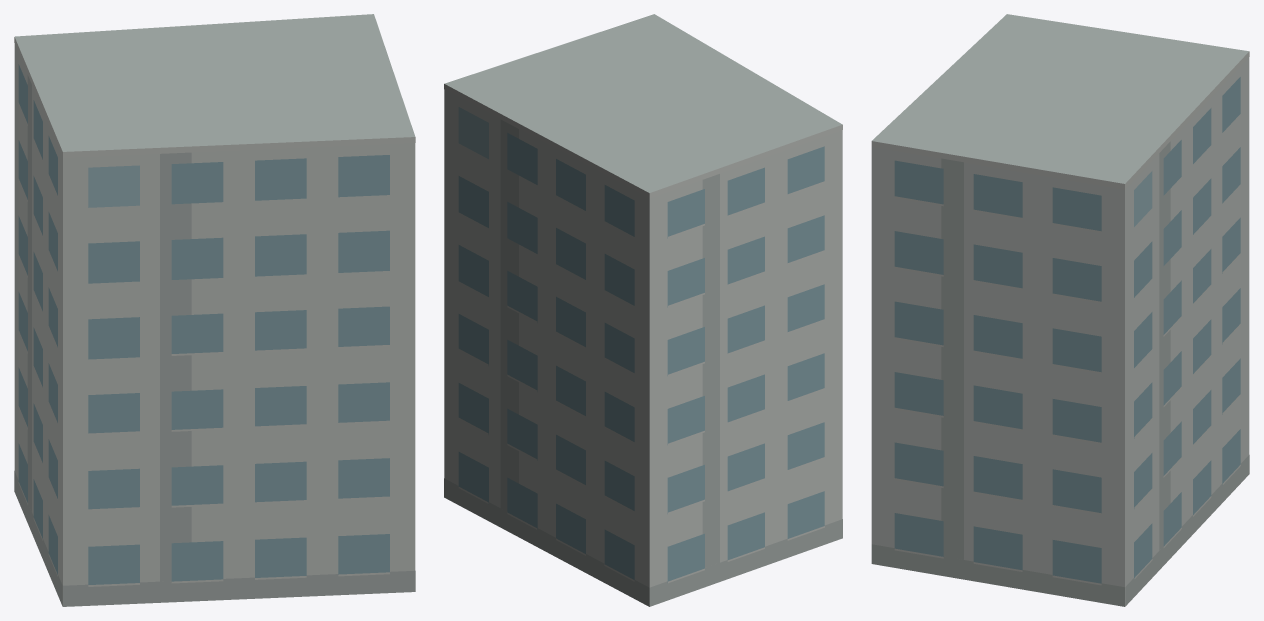
Rendered from survey-upis-32524504.glb.
3 renders of one model, left to right at view 1: azimuth 30°, elevation 25°; view 2: azimuth 150°, elevation 25°; view 3: azimuth 270°, elevation 25°, orthographic. The views are drawn at different scales.
Visible parts, largest first — view 1: survey-upis-32524504.tmp; view 2: survey-upis-32524504.tmp; view 3: survey-upis-32524504.tmp.
Part boxes in pixels (bbox=[...]): survey-upis-32524504.tmp: bbox=[14, 14, 415, 606]; survey-upis-32524504.tmp: bbox=[444, 14, 842, 606]; survey-upis-32524504.tmp: bbox=[871, 14, 1249, 606].
Bounding box in the file's own units: 15.78 × 18.3 × 14.83.
